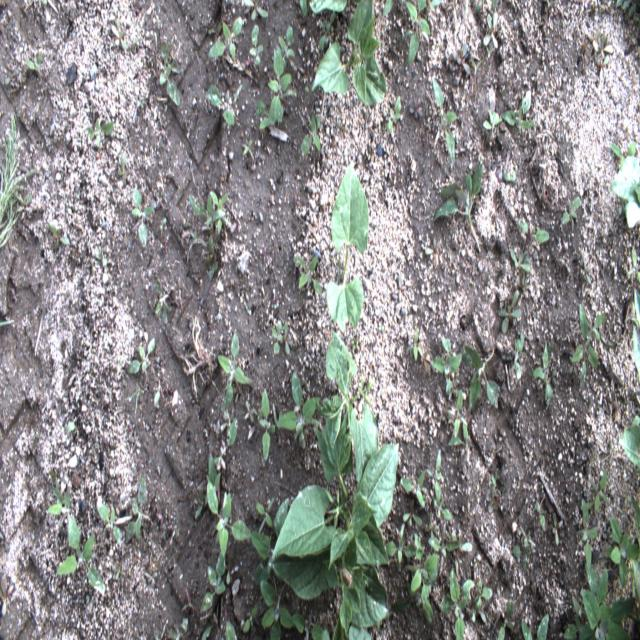crop: (269, 407, 399, 638), (313, 326, 379, 492), (311, 0, 386, 105), (326, 161, 369, 334), (609, 154, 639, 230), (618, 415, 640, 471), (299, 0, 347, 18), (632, 288, 640, 381)
weed: (0, 112, 41, 248), (563, 564, 636, 640), (432, 155, 484, 255), (206, 473, 250, 558), (276, 370, 321, 448), (249, 498, 288, 586), (188, 190, 231, 268), (56, 534, 106, 600), (571, 299, 607, 389), (404, 532, 439, 624), (217, 329, 253, 412), (605, 517, 639, 591), (267, 46, 298, 125), (463, 346, 499, 414), (432, 76, 458, 168), (46, 483, 80, 548), (439, 563, 468, 639), (260, 579, 293, 639), (402, 0, 430, 69), (430, 338, 462, 397), (382, 522, 418, 572), (575, 498, 600, 569), (126, 472, 150, 545), (208, 15, 243, 64), (201, 544, 225, 613), (531, 338, 553, 412), (500, 88, 534, 134), (153, 270, 180, 324), (132, 187, 154, 252), (160, 42, 182, 106), (446, 387, 468, 444), (293, 252, 322, 294), (126, 337, 156, 375), (206, 85, 234, 125), (428, 520, 459, 556), (501, 332, 524, 380), (97, 500, 120, 547), (426, 448, 444, 506), (400, 469, 427, 507), (497, 291, 522, 332), (291, 614, 329, 639), (301, 114, 322, 158), (590, 470, 611, 512), (83, 118, 113, 147), (259, 384, 270, 463), (517, 221, 549, 246), (276, 25, 295, 67), (318, 8, 336, 51), (496, 598, 514, 639), (560, 197, 581, 232), (472, 577, 494, 609), (256, 497, 274, 535), (522, 614, 548, 640), (404, 328, 424, 361), (483, 9, 498, 51), (592, 33, 614, 61), (387, 96, 404, 132), (454, 41, 471, 75), (483, 109, 502, 139), (512, 545, 531, 575), (250, 26, 264, 66), (510, 249, 531, 274), (50, 223, 70, 249), (403, 499, 422, 526), (241, 603, 258, 633), (243, 0, 268, 20), (280, 319, 294, 354), (431, 498, 452, 520), (118, 152, 132, 184), (111, 24, 128, 49), (270, 319, 282, 354), (25, 50, 42, 73), (552, 512, 563, 546), (535, 500, 545, 532)
